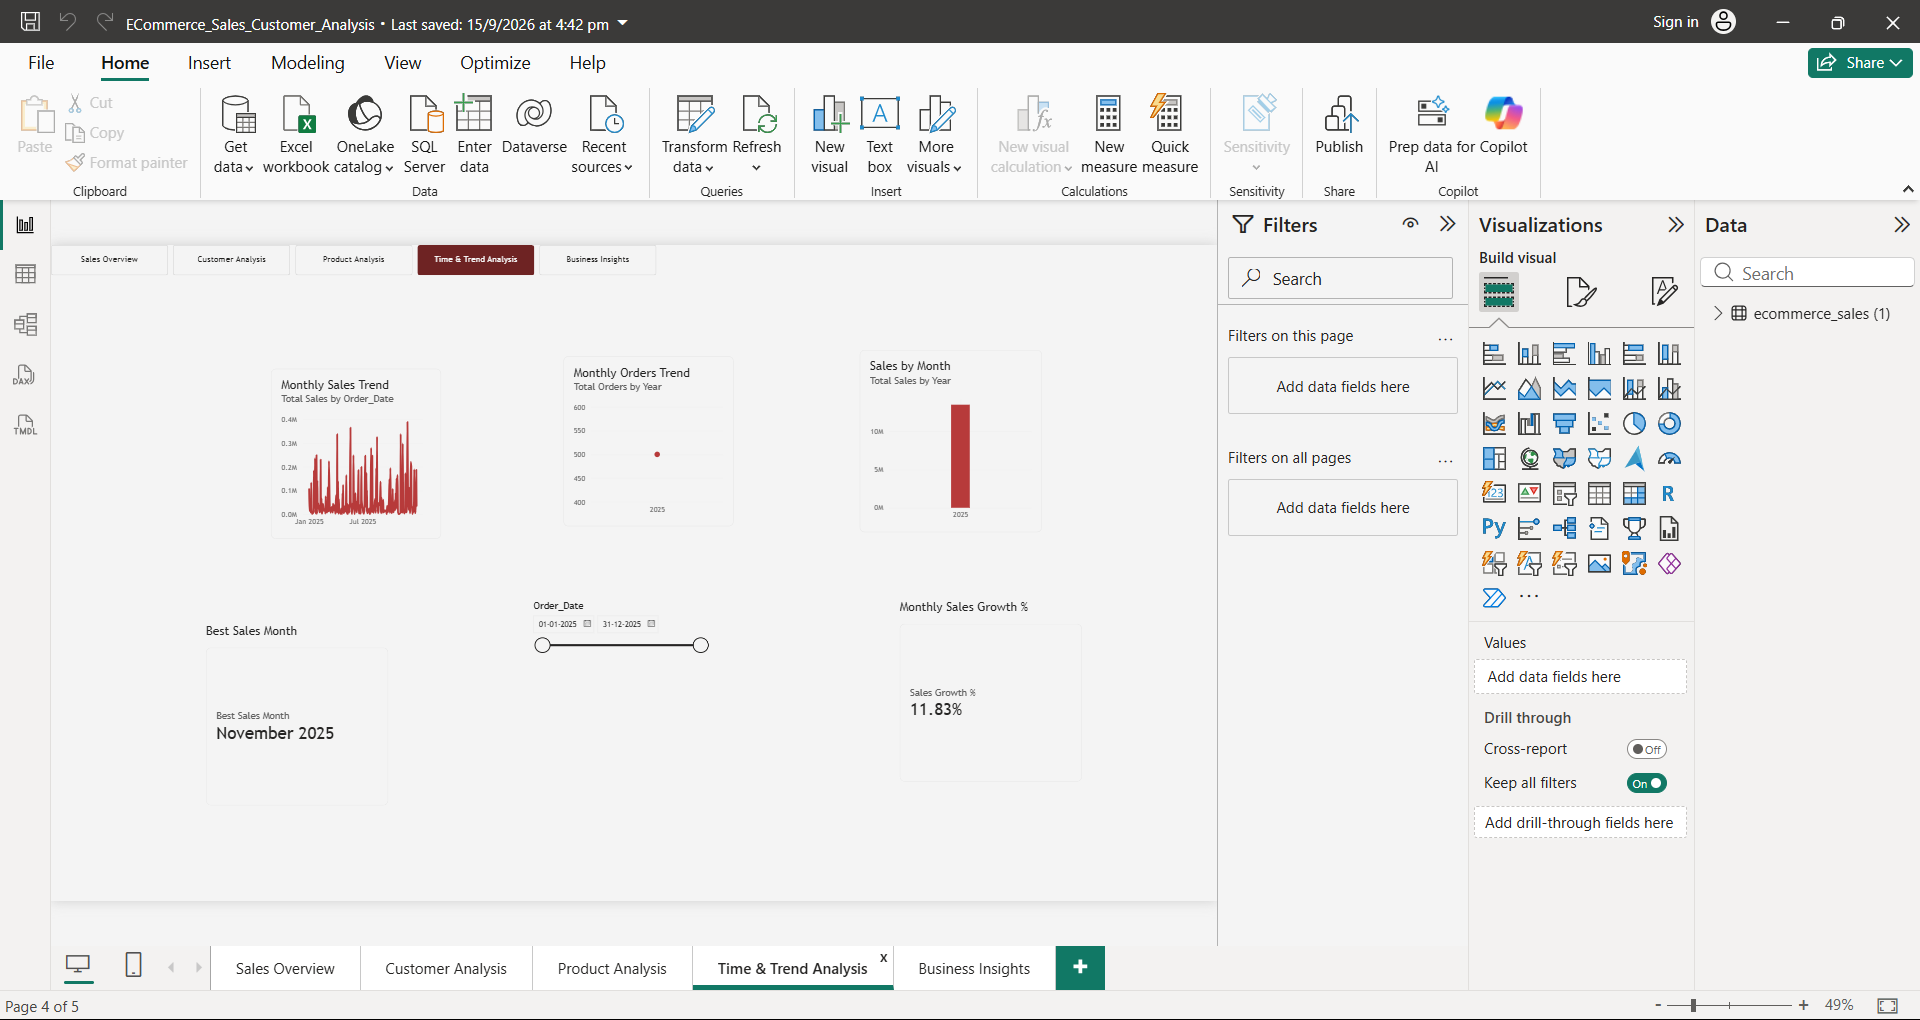

What the dashboard file says about the page in this screenshot:
{"tool":"powerbi","page":{"name":"Time & Trend Analysis","canvas":[1920,1080],"ordinal":3},"visuals":[{"type":"lineChart","title":"Monthly Sales Trend","fields":{"Category":["ecommerce_sales (1).Order_Date"],"Y":["ecommerce_sales (1).Total Sales"]},"box":[361.3,203.1,280,280],"z":0},{"type":"lineChart","title":"Monthly Orders Trend","fields":{"Category":["ecommerce_sales (1).Order_Date.Variation.Date Hierarchy.Year","ecommerce_sales (1).Order_Date.Variation.Date Hierarchy.Month"],"Y":["ecommerce_sales (1).Total Orders"]},"box":[844.5,183.9,280,280],"z":1000},{"type":"clusteredColumnChart","title":"Sales by Month","fields":{"Category":["ecommerce_sales (1).Order_Date.Variation.Date Hierarchy.Year","ecommerce_sales (1).Order_Date.Variation.Date Hierarchy.Quarter","ecommerce_sales (1).Order_Date.Variation.Date Hierarchy.Month","ecommerce_sales (1).Order_Date.Variation.Date Hierarchy.Day"],"Y":["ecommerce_sales (1).Total Sales"]},"box":[1332,173.2,300,300],"z":2000},{"type":"cardVisual","title":"Best Sales Month","fields":{"Data":["ecommerce_sales (1).Best Sales Month"]},"box":[254.4,624.3,300,300],"z":3000},{"type":"cardVisual","title":"Monthly Sales Growth %","fields":{"Data":["ecommerce_sales (1).Sales Growth %"]},"box":[1398.3,583.7,300,300],"z":4000},{"type":"slicer","fields":{"Values":["ecommerce_sales (1).Order_Date"]},"box":[786.8,583.7,300,300],"z":5000},{"type":"pageNavigator","box":[0,0,1000,50],"z":5001}]}

Visuals, with their boxes on the page's 1920x1080 design canvas (x1, y1, x2, y2). These are canvas units, not pixel positions in the 1920x1020 screenshot, which may show the page scaled, cropped or inside an application window:
"Monthly Sales Trend" lineChart: (361,203,641,483)
"Monthly Orders Trend" lineChart: (844,184,1124,464)
"Sales by Month" clusteredColumnChart: (1332,173,1632,473)
"Best Sales Month" cardVisual: (254,624,554,924)
"Monthly Sales Growth %" cardVisual: (1398,584,1698,884)
slicer - ecommerce_sales (1).Order_Date: (787,584,1087,884)
pageNavigator: (0,0,1000,50)
